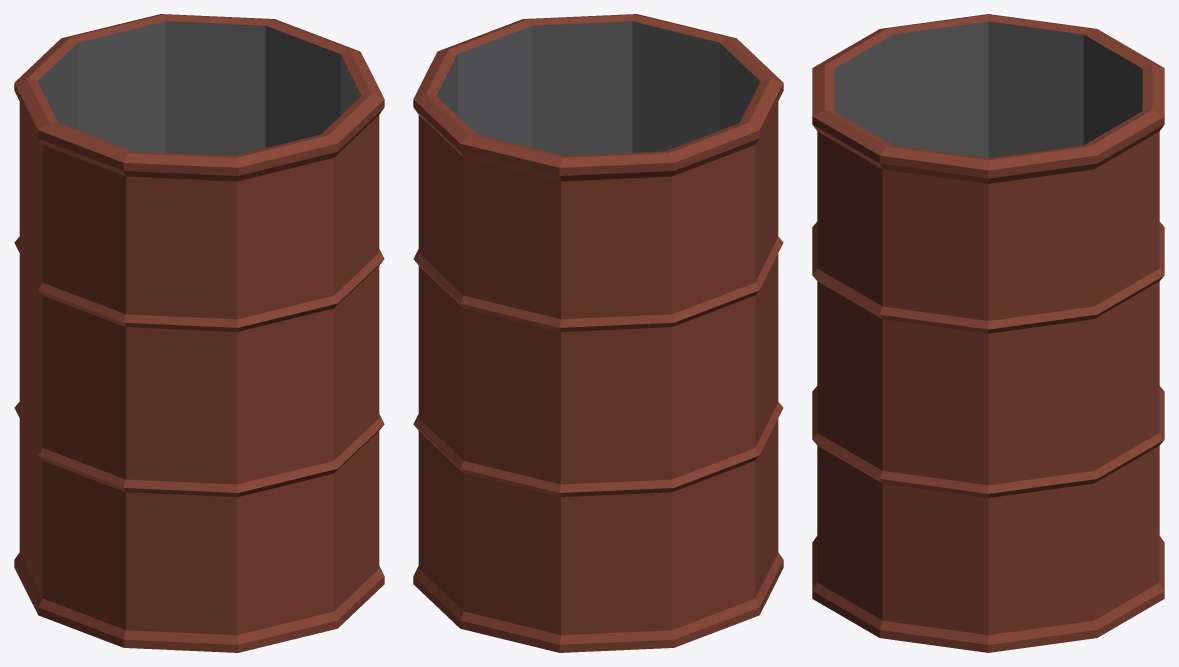
The model's file is drum-open.glb.
3 renders of one model, left to right at view 1: azimuth 30°, elevation 25°; view 2: azimuth 150°, elevation 25°; view 3: azimuth 270°, elevation 25°, orthographic.
Visible parts, largest first — view 1: DrumOpen; view 2: DrumOpen; view 3: DrumOpen.
Part boxes in pixels (<box>): DrumOpen: <box>14,14,384,652</box>; DrumOpen: <box>413,14,783,652</box>; DrumOpen: <box>812,14,1164,652</box>.
Bounding box in the file's own units: 0.58 × 0.85 × 0.5516.
